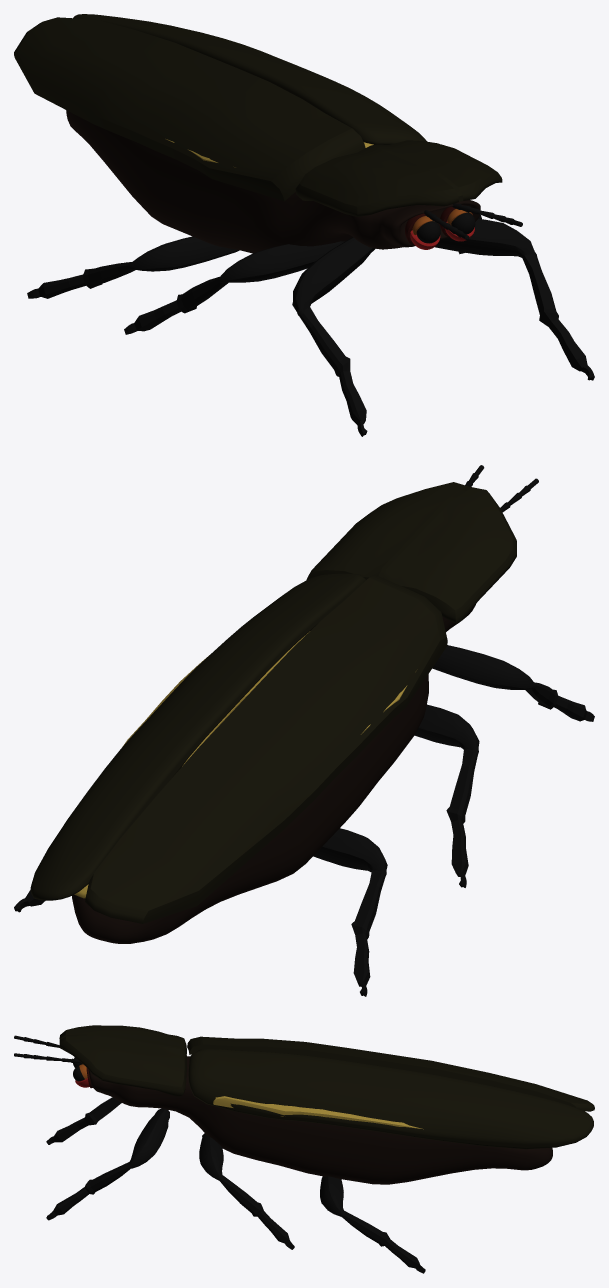
The model's file is Fireflye_SmithA.FBX.
3 views of the same model, one above another, from view 1: azimuth 30°, elevation 25°; view 2: azimuth 150°, elevation 25°; view 3: azimuth 270°, elevation 25° (orthographic). The views are drawn at different scales.
Visible parts, largest first — view 1: Firefly_Main_Wing_Case_R002, Firefly_Main_Body001, Firefly_Main_Head_Case001, Firefly_Main_Wing_Case_R003, Firefly_Leg012, Firefly_Leg010, Firefly_Leg009, Firefly_Leg011; view 2: Firefly_Main_Wing_Case_R002, Firefly_Main_Wing_Case_R003, Firefly_Main_Head_Case001, Firefly_Main_Body001, Firefly_Leg010, Firefly_Leg011, Firefly_Leg012; view 3: Firefly_Main_Wing_Case_R003, Firefly_Main_Body001, Firefly_Main_Head_Case001, Firefly_Main_Wing_Case_R002, Firefly_Leg009, Firefly_Leg007, Firefly_Leg008, Firefly_Main_Wing_R003, Firefly_Leg012.
Boxes of the visible parts, x1,y1,x2,y2 form: Firefly_Main_Wing_Case_R002: (14, 17, 365, 201); Firefly_Main_Body001: (66, 110, 480, 253); Firefly_Main_Head_Case001: (295, 140, 502, 216); Firefly_Main_Wing_Case_R003: (73, 14, 426, 144); Firefly_Leg012: (292, 237, 375, 436); Firefly_Leg010: (124, 241, 345, 334); Firefly_Leg009: (435, 219, 594, 380); Firefly_Leg011: (27, 236, 239, 298); Firefly_Main_Wing_Case_R002: (85, 575, 447, 923); Firefly_Main_Wing_Case_R003: (30, 573, 365, 900); Firefly_Main_Head_Case001: (306, 482, 516, 623); Firefly_Main_Body001: (72, 604, 475, 943); Firefly_Leg010: (414, 704, 479, 887); Firefly_Leg011: (313, 828, 387, 996); Firefly_Leg012: (432, 645, 594, 721); Firefly_Main_Wing_Case_R003: (188, 1049, 593, 1149); Firefly_Main_Body001: (88, 1056, 552, 1184); Firefly_Main_Head_Case001: (59, 1025, 186, 1096); Firefly_Main_Wing_Case_R002: (187, 1036, 594, 1111); Firefly_Leg009: (46, 1108, 169, 1220); Firefly_Leg007: (199, 1133, 294, 1249); Firefly_Leg008: (320, 1176, 425, 1273); Firefly_Main_Wing_R003: (213, 1096, 423, 1129); Firefly_Leg012: (46, 1097, 121, 1144).
Bounding box in the file's own units: 0.1632 × 0.121 × 0.3545.
